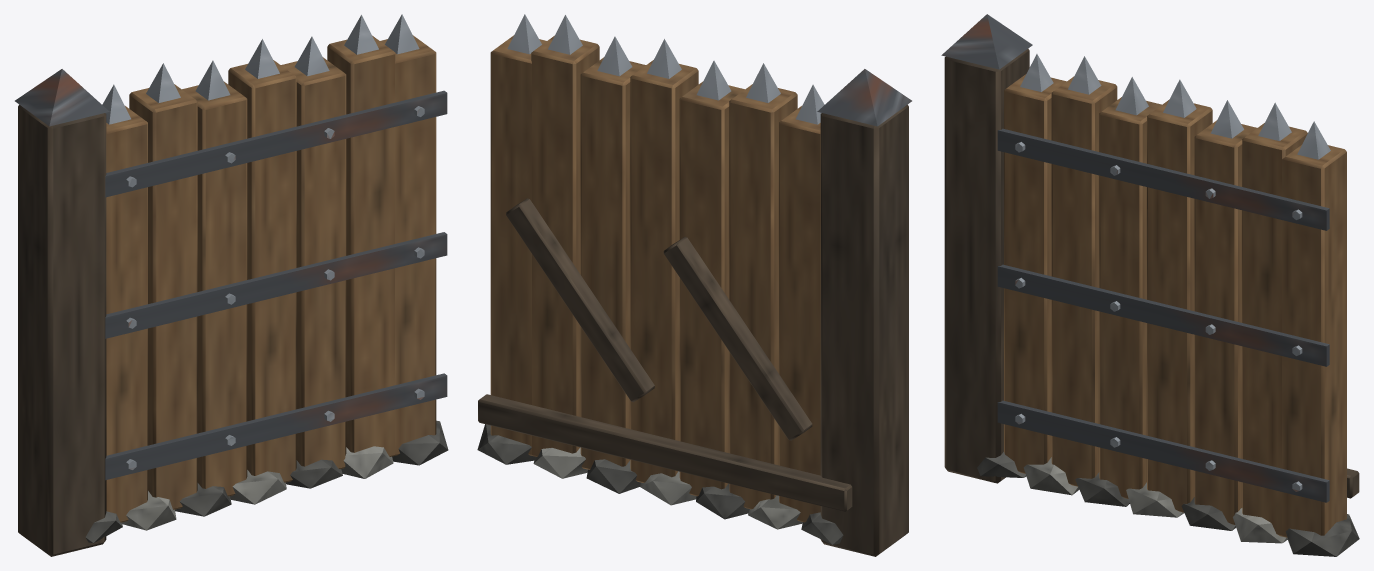
File: SM_ReinforcedWall.fbx
3 renders of one model, left to right at view 1: azimuth 30°, elevation 25°; view 2: azimuth 150°, elevation 25°; view 3: azimuth 330°, elevation 25°, orthographic. The views are drawn at different scales.
Visible parts, largest first — view 1: SM_ReinforcedWall; view 2: SM_ReinforcedWall; view 3: SM_ReinforcedWall.
Boxes of the visible parts, x1,y1,x2,y2 form: SM_ReinforcedWall: (15, 14, 448, 556); SM_ReinforcedWall: (477, 14, 911, 556); SM_ReinforcedWall: (941, 14, 1359, 556).
Bounding box in the file's own units: 9.08 × 10.14 × 1.73.
1 material, 1 textured.
